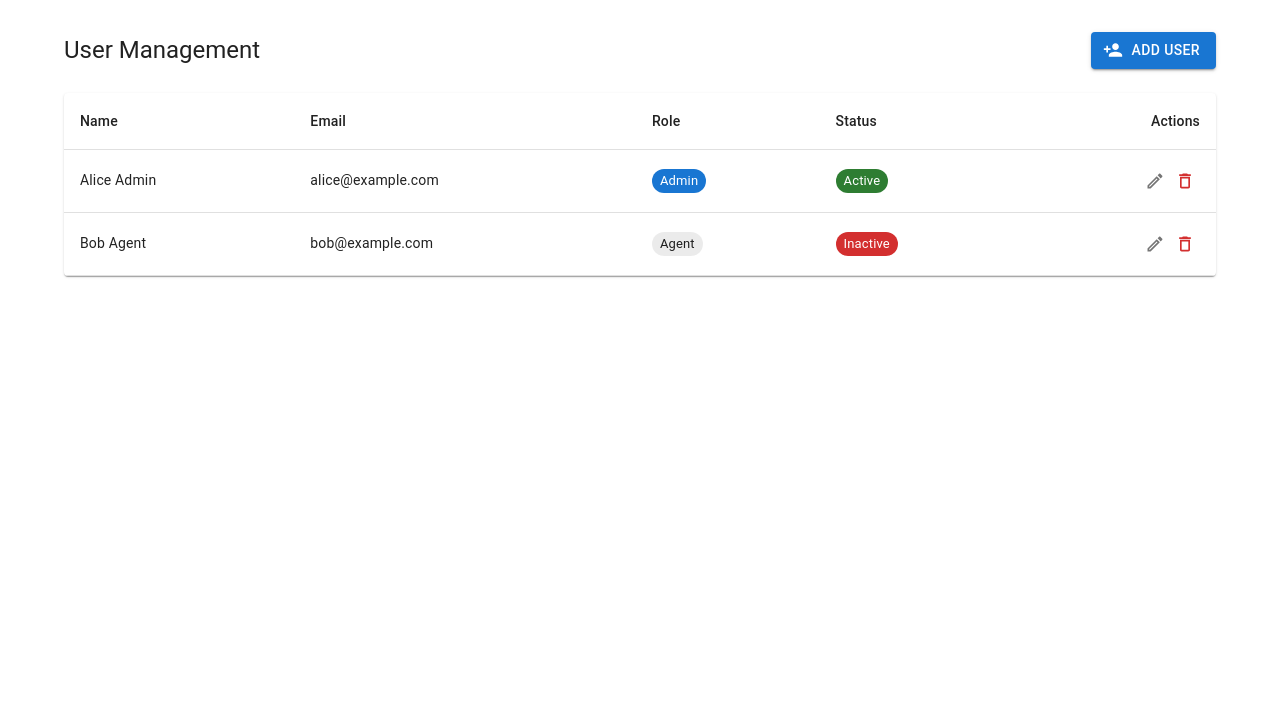
Test: UsersPage › edit user › opens the edit dialog pre-populated with the user's data
The width and height of the screenshot is (1280, 720).
Check: the text "Bob Agent" is shown, box [64,212,294,275]
Click the button named "edit bob agent" at [1155, 244], box [1140,228,1170,258]
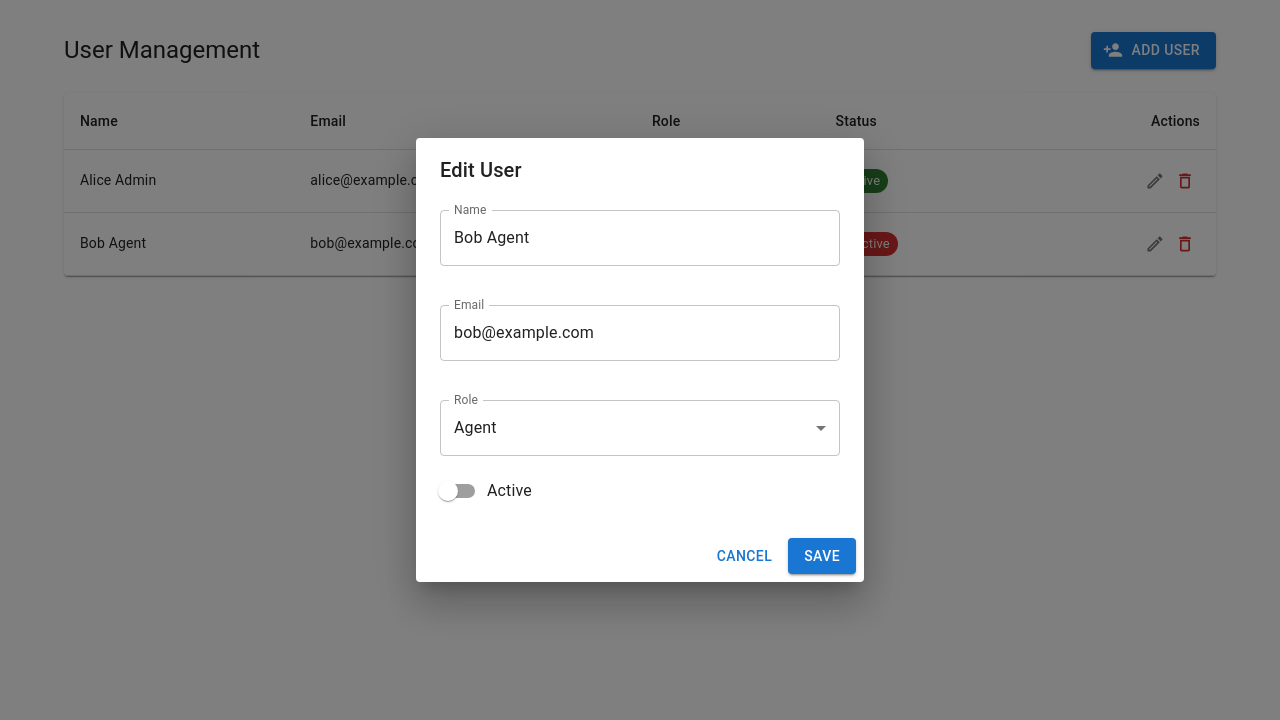
Check: the dialog is shown, box [416,138,864,582]
Check: the field showing "Bob Agent" is shown, box [440,210,840,266]
Check: the field showing "bob@example.com" is shown, box [440,305,840,361]
